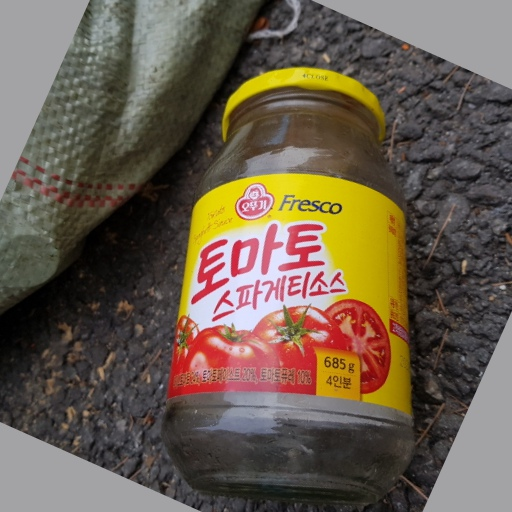Glass_5: (164, 69, 417, 502)
